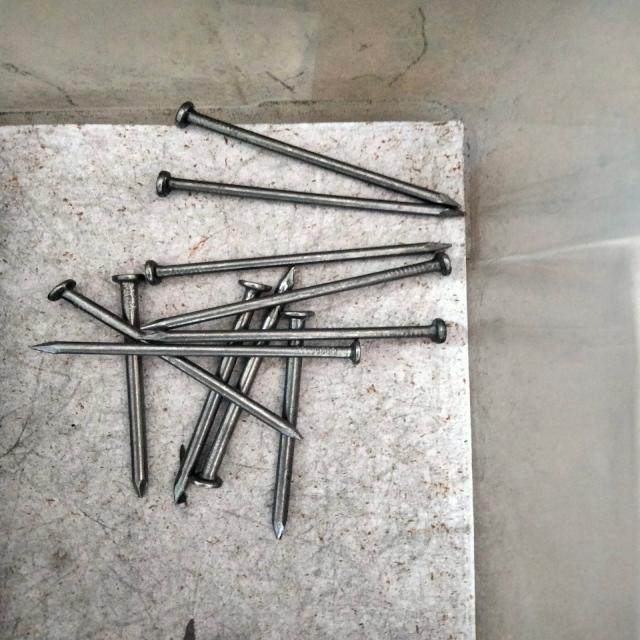3x8 nail: (126, 95, 489, 227), (27, 313, 463, 383)
